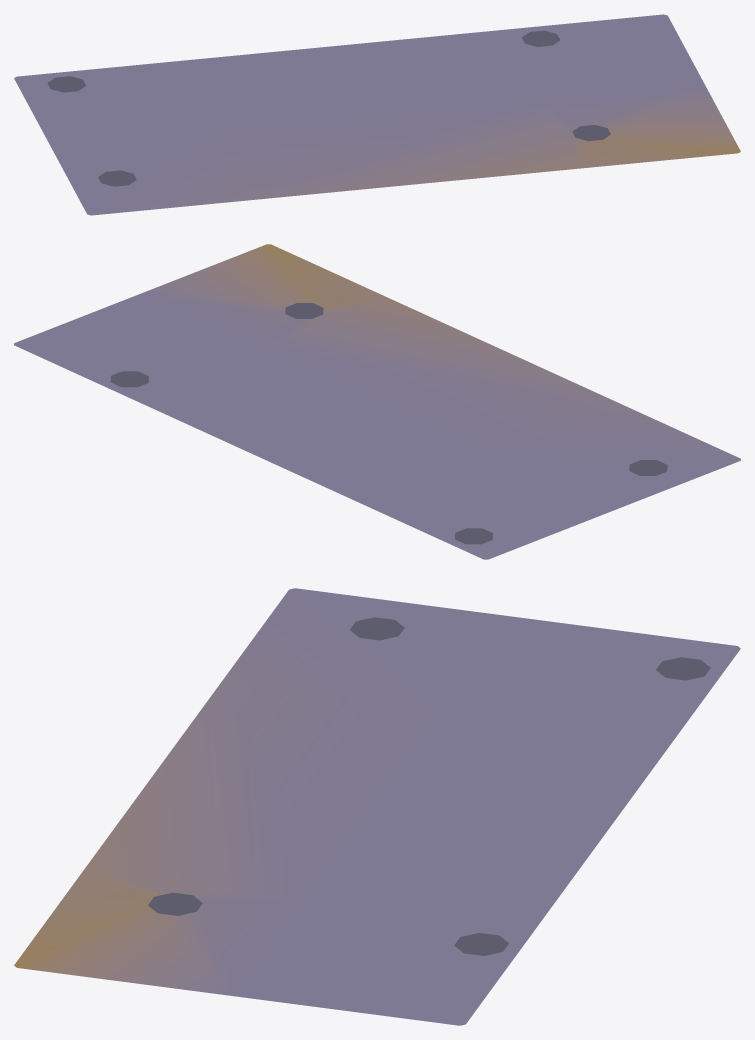
3 renders of one model, top to bottom at view 1: azimuth 30°, elevation 25°; view 2: azimuth 150°, elevation 25°; view 3: azimuth 270°, elevation 25°, orthographic. The views are drawn at different scales.
Parts seen in each view (by area): view 1: Joint_0_Object_0; view 2: Joint_0_Object_0; view 3: Joint_0_Object_0.
Part boxes in pixels (left/top/right/bottom): Joint_0_Object_0: left=14, top=14, right=740, bottom=215; Joint_0_Object_0: left=14, top=244, right=740, bottom=559; Joint_0_Object_0: left=14, top=588, right=740, bottom=1025.
Size of the model in its own units: 4492 by 0.2003 by 3153.
1 material, 1 textured.
